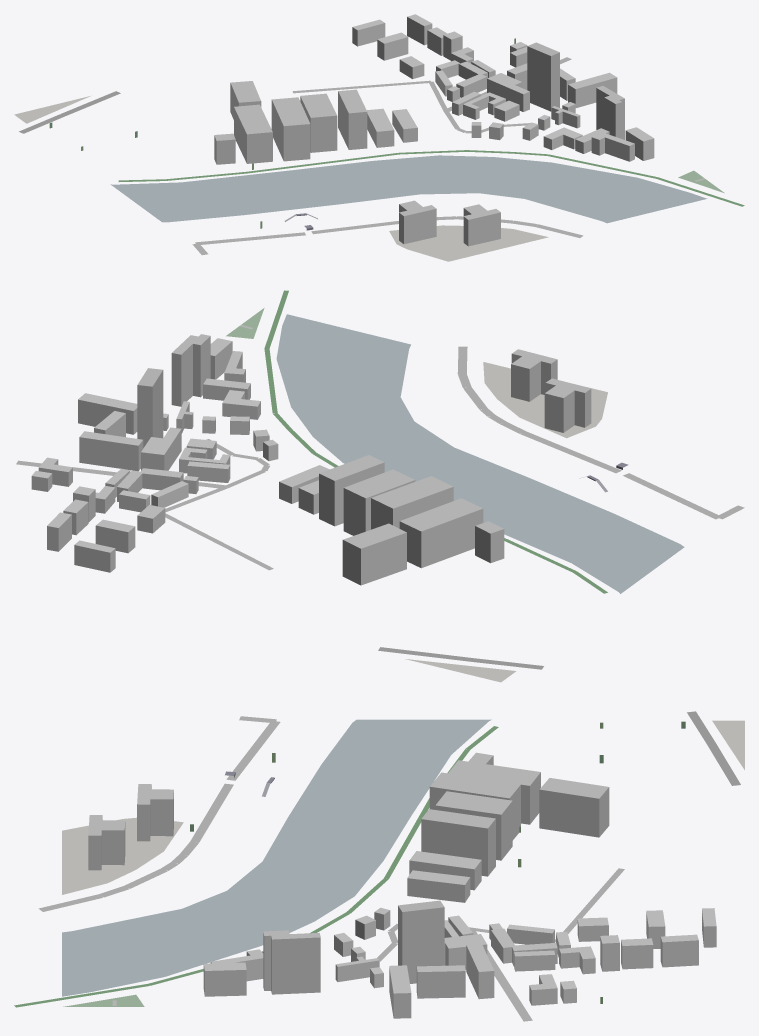
The picture shows the model from 3 angles, top to bottom: view 1: azimuth 30°, elevation 25°; view 2: azimuth 150°, elevation 25°; view 3: azimuth 270°, elevation 25°; orthographic projection. The views are drawn at different scales.
Size of the model in its own units: 541 by 59.91 by 535.
